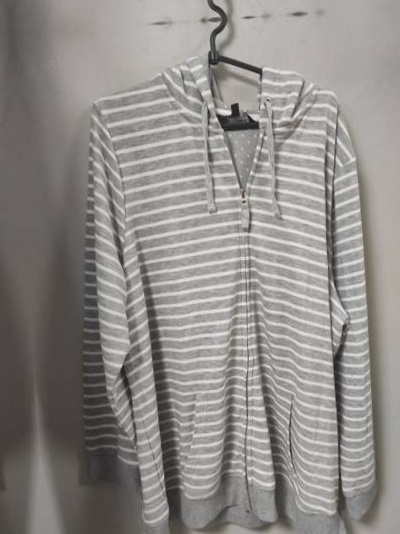Hoodie: (65, 35, 396, 534), (28, 0, 359, 4)
